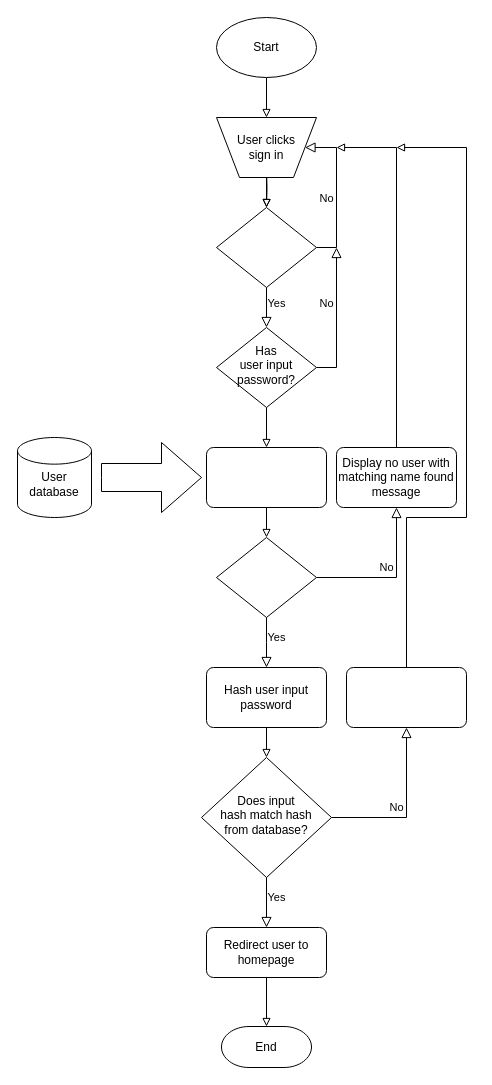
Image size: 492x1085. Some labels were removed from this diagram. The centre of each missing label's shape, as x and y in pixels:
"Display incorrect password message" goes at point (406, 697).
"Found user name?" goes at point (266, 577).
"Has user input user name?" goes at point (266, 247).
"Search for user name in database" goes at point (266, 477).
